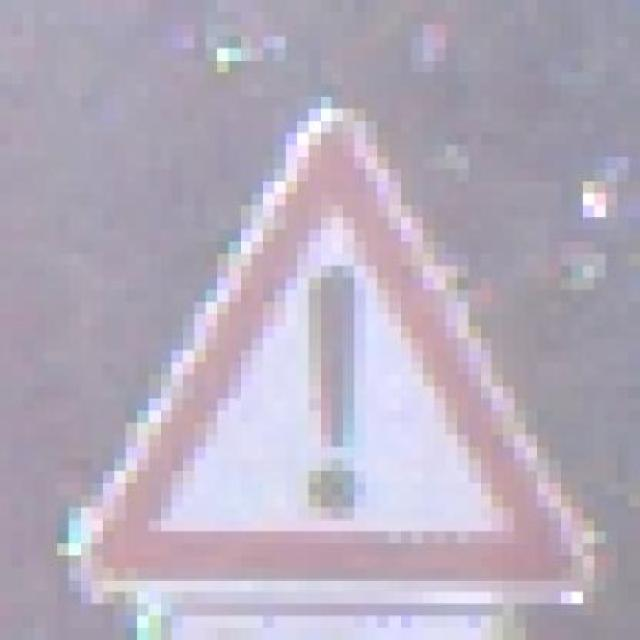Attention Please-: (34, 84, 617, 616)
